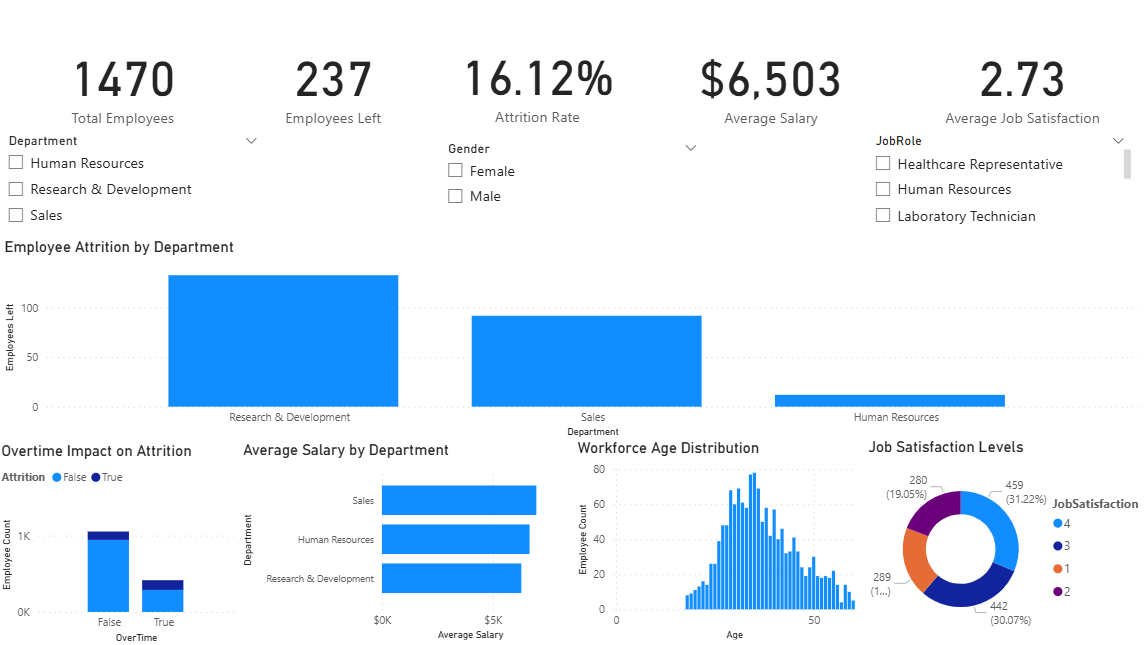

Layout of this report page (visuals, bound fields, positions):
{"tool":"powerbi","page":{"name":"Page 1","canvas":[1280,720],"ordinal":0},"visuals":[{"type":"card","fields":{"Values":["hr_data.Total Employees"]},"box":[9.4,0,258.9,187.1],"z":0},{"type":"card","fields":{"Values":["hr_data.Employees Left"]},"box":[268.3,0,209.8,187.1],"z":1000},{"type":"card","fields":{"Values":["hr_data.Attrition Rate"]},"box":[478.1,0,243.8,185.2],"z":2000},{"type":"card","fields":{"Values":["hr_data.Average Salary"]},"box":[721.9,0,275.9,187.1],"z":3000},{"type":"card","fields":{"Values":["hr_data.Average Job Satisfaction"]},"box":[997.8,0,281.6,187.1],"z":4000},{"type":"clusteredColumnChart","title":"Employee Attrition by Department","fields":{"Category":["hr_data.Department"],"Y":["hr_data.Employees Left"]},"box":[3.7,266.5,1270.2,226.1],"z":5000},{"type":"columnChart","title":"Overtime Impact on Attrition","fields":{"Category":["hr_data.OverTime"],"Y":["hr_data.Employee Count"],"Series":["hr_data.Attrition"]},"box":[0,492.5,268.8,227.5],"z":6000},{"type":"clusteredBarChart","title":"Average Salary by Department","fields":{"Category":["hr_data.Department"],"Y":["hr_data.Average Salary"]},"box":[268.8,491.2,371.2,226.2],"z":7000},{"type":"clusteredColumnChart","title":"Workforce Age Distribution","fields":{"Category":["hr_data.Age"],"Y":["hr_data.Employee Count"]},"box":[639.7,490.8,323.5,227.9],"z":8000},{"type":"donutChart","title":"Job Satisfaction Levels","fields":{"Category":["hr_data.JobSatisfaction"],"Y":["hr_data.Employee Count"]},"box":[963.2,489,316.2,227.9],"z":9000},{"type":"slicer","fields":{"Values":["hr_data.Department"]},"box":[0,145.2,301.5,121.3],"z":10000},{"type":"slicer","fields":{"Values":["hr_data.Gender"]},"box":[489,152.6,301.5,106.6],"z":11000},{"type":"slicer","fields":{"Values":["hr_data.JobRole"]},"box":[963.2,145.2,301.5,121.3],"z":12000}]}

Visuals, with their boxes in screenshot pixels (x1, y1, x2, y2), scaled from the page's 1280x720 canvas onto the 1146x645 screenshot:
card - hr_data.Total Employees: 8,0,240,168
card - hr_data.Employees Left: 240,0,428,168
card - hr_data.Attrition Rate: 428,0,646,166
card - hr_data.Average Salary: 646,0,893,168
card - hr_data.Average Job Satisfaction: 893,0,1145,168
"Employee Attrition by Department" clusteredColumnChart: 3,239,1141,441
"Overtime Impact on Attrition" columnChart: 0,441,241,644
"Average Salary by Department" clusteredBarChart: 241,440,573,643
"Workforce Age Distribution" clusteredColumnChart: 573,440,862,644
"Job Satisfaction Levels" donutChart: 862,438,1145,642
slicer - hr_data.Department: 0,130,270,239
slicer - hr_data.Gender: 438,137,708,232
slicer - hr_data.JobRole: 862,130,1132,239
